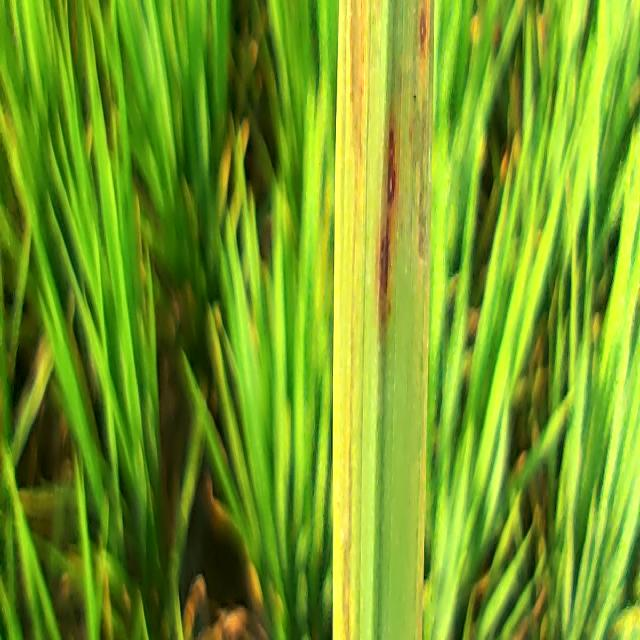NBS: (379, 213, 391, 320), (387, 125, 396, 207), (421, 8, 425, 46)
